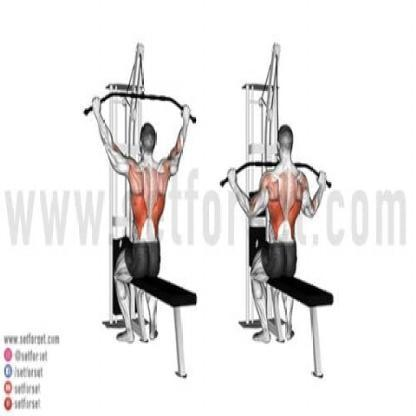Lat Pull Down: (79, 38, 212, 389), (219, 38, 339, 383)
